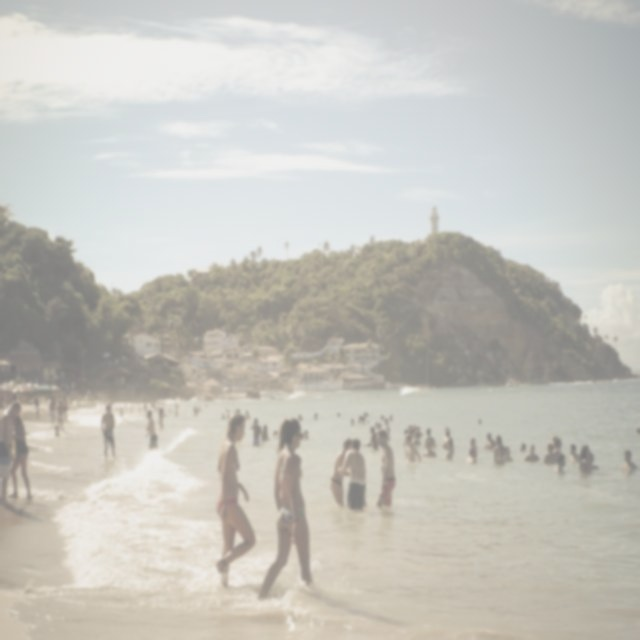pessoa: (258, 417, 316, 602), (215, 412, 258, 589), (0, 400, 22, 510), (7, 414, 33, 502), (338, 438, 366, 510), (376, 428, 396, 508), (329, 438, 352, 507), (101, 404, 115, 460), (144, 410, 158, 450), (374, 414, 394, 441), (404, 434, 422, 462), (404, 424, 424, 446), (249, 418, 263, 448), (620, 449, 638, 472), (362, 426, 379, 450), (578, 444, 592, 472), (493, 434, 506, 464), (404, 427, 416, 459), (0, 388, 13, 416), (48, 395, 58, 428), (543, 442, 558, 464), (96, 390, 114, 408), (523, 443, 540, 462), (56, 398, 64, 434), (442, 437, 454, 460), (422, 440, 437, 458), (465, 446, 478, 465), (554, 452, 566, 472), (424, 428, 436, 448), (484, 432, 497, 450), (233, 408, 251, 421), (586, 452, 599, 469), (60, 395, 68, 422), (552, 438, 562, 458), (570, 443, 580, 462), (34, 392, 41, 419), (157, 406, 165, 428), (262, 424, 271, 442), (504, 446, 514, 462), (86, 388, 94, 408), (356, 412, 369, 424), (468, 437, 478, 450), (442, 426, 449, 444), (192, 404, 202, 416), (74, 399, 82, 413), (150, 402, 161, 412), (174, 400, 180, 418), (300, 430, 310, 440), (221, 408, 230, 419), (552, 434, 558, 450), (68, 394, 74, 408), (54, 426, 60, 438), (594, 436, 612, 440), (520, 442, 526, 452), (634, 427, 640, 437), (272, 430, 279, 438), (12, 393, 18, 402), (119, 408, 124, 418), (297, 414, 303, 422), (312, 412, 318, 420), (446, 428, 450, 438), (350, 418, 355, 426), (45, 395, 48, 407), (336, 412, 342, 418), (129, 405, 133, 413), (161, 401, 166, 406), (169, 408, 174, 413), (368, 443, 373, 448), (478, 418, 482, 424), (306, 390, 312, 394), (228, 394, 232, 400), (138, 407, 142, 413), (163, 412, 167, 416), (205, 403, 208, 408), (114, 404, 117, 409), (316, 384, 318, 390), (124, 403, 127, 407), (110, 408, 112, 414), (296, 387, 298, 392), (138, 402, 140, 406), (377, 394, 380, 396), (118, 404, 121, 406), (170, 404, 172, 406), (232, 402, 234, 404)
